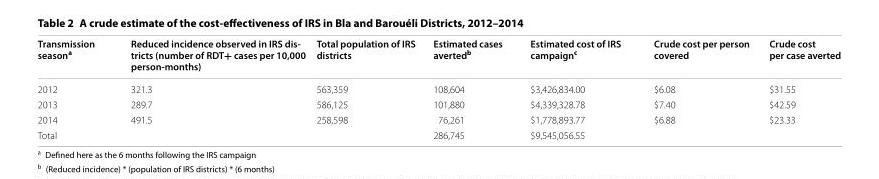table: (37, 36, 841, 140)
table column: (113, 36, 311, 140), (637, 36, 759, 140), (516, 36, 637, 140), (311, 36, 424, 140), (424, 36, 516, 140), (759, 36, 841, 140), (37, 36, 113, 140)
table column header: (37, 36, 841, 77)
table row: (37, 36, 841, 77), (37, 77, 841, 96), (37, 111, 841, 127), (37, 96, 841, 111), (37, 127, 841, 140)
